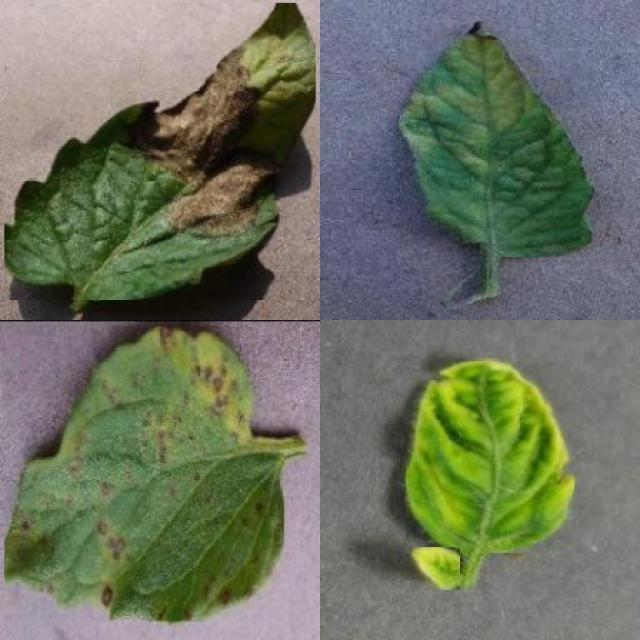Late Blight: (4, 2, 316, 300)
Leaf Mold: (400, 20, 594, 257)
Septoria: (5, 326, 285, 621)
Yellow Leaf Curl Virus: (405, 359, 575, 554), (412, 547, 459, 590)
